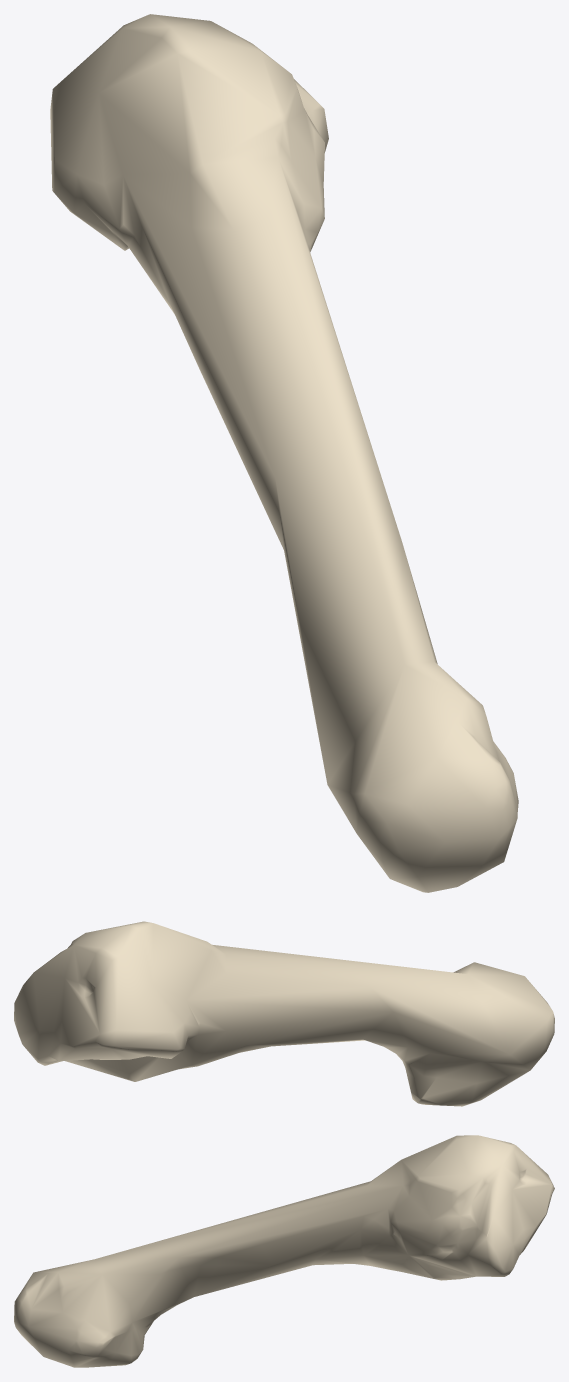
Rendered from fourth-metatarsal-bone-r.glb.
3 renders of one model, top to bottom at view 1: azimuth 30°, elevation 25°; view 2: azimuth 150°, elevation 25°; view 3: azimuth 270°, elevation 25°, orthographic. The views are drawn at different scales.
Parts seen in each view (by area): view 1: Fourth metatarsal bone.r; view 2: Fourth metatarsal bone.r; view 3: Fourth metatarsal bone.r.
Part boxes in pixels (x1=…): Fourth metatarsal bone.r: x1=50, y1=14, x2=518, y2=892; Fourth metatarsal bone.r: x1=14, y1=921, x2=554, y2=1106; Fourth metatarsal bone.r: x1=14, y1=1135, x2=554, y2=1367.
Size of the model in its own units: 0.0299 by 0.037 by 0.0685.
